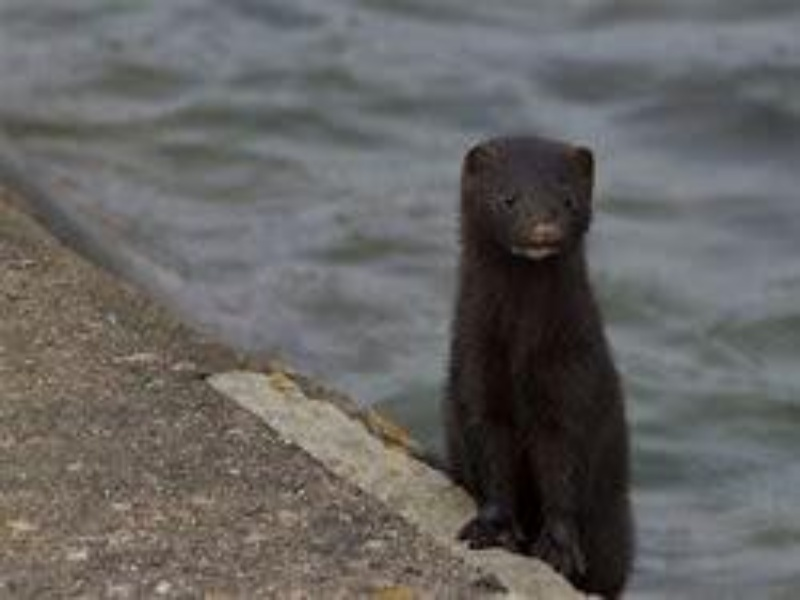minkish: (438, 128, 636, 600)
